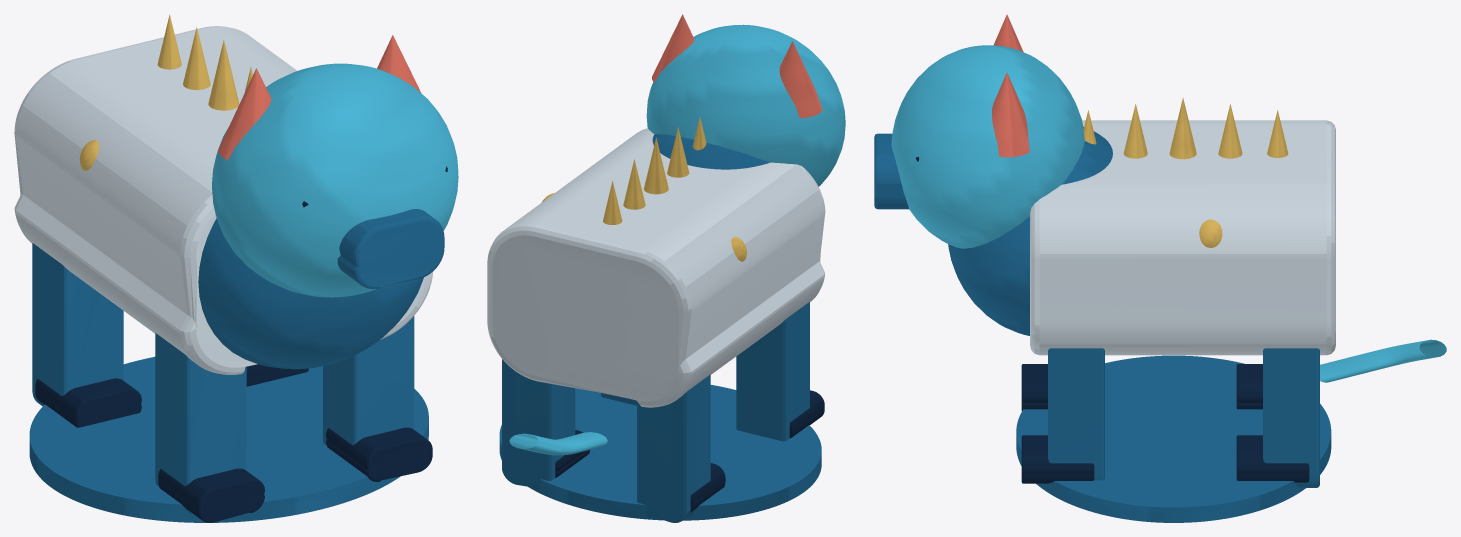
Rendered from 0310_古生代动物图鉴_海座星.glb.
The picture shows the model from 3 angles, left to right: view 1: azimuth 30°, elevation 25°; view 2: azimuth 150°, elevation 25°; view 3: azimuth 270°, elevation 25°; orthographic projection. The views are drawn at different scales.
Visible parts, largest first — view 1: card_0310; view 2: card_0310; view 3: card_0310.
Part boxes in pixels (x1,y1,x2,y2): card_0310: (14,14,458,522); card_0310: (487,14,845,522); card_0310: (874,14,1446,522).
Bounding box in the file's own units: 0.8063 × 1 × 1.28.
